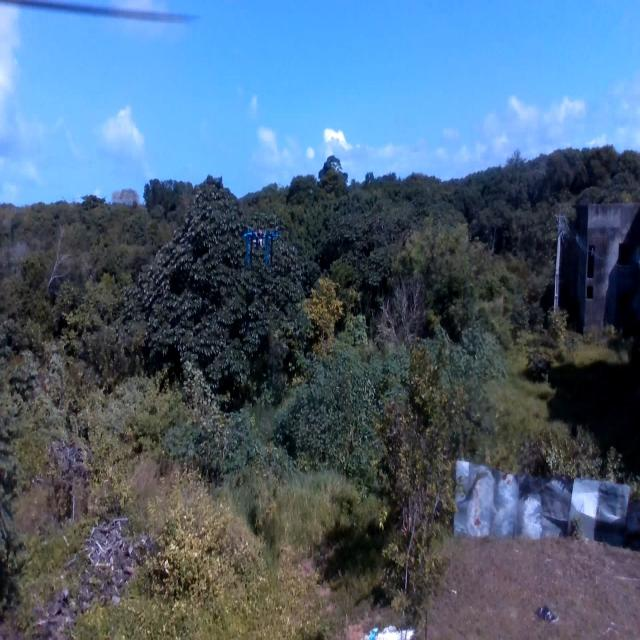-uav-: (239, 222, 279, 264)
